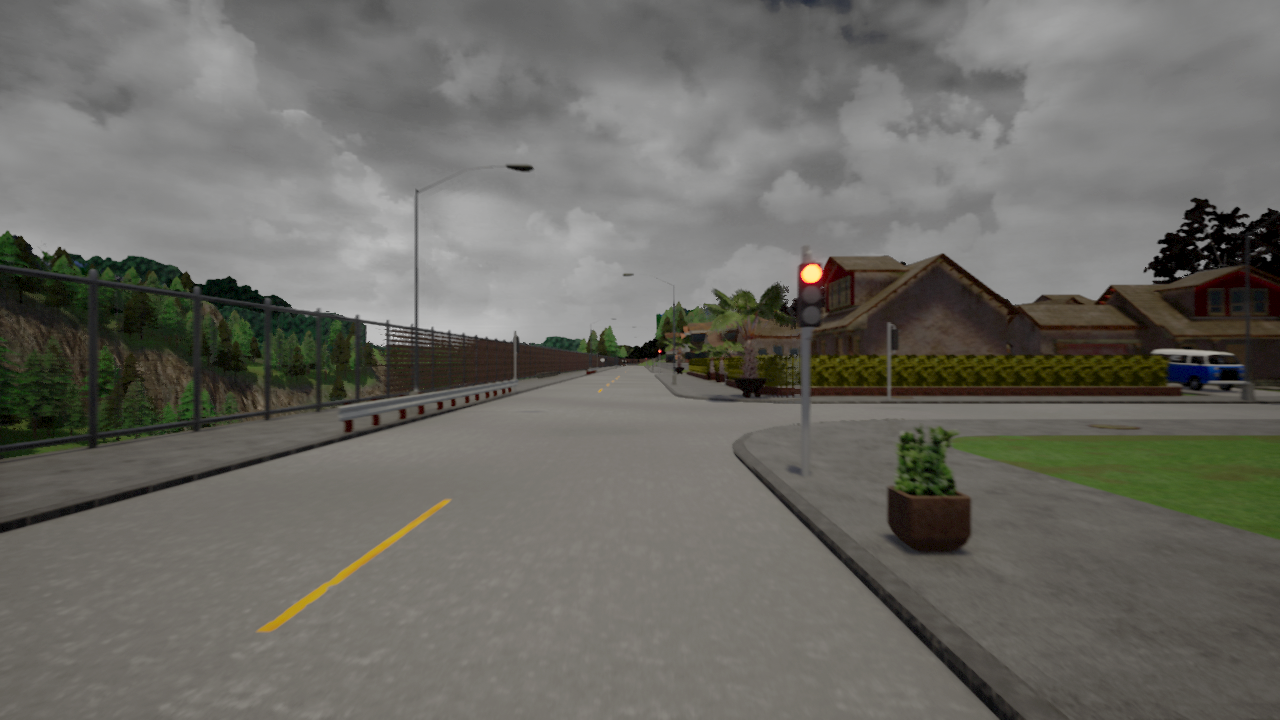red: (795, 260, 823, 327)
